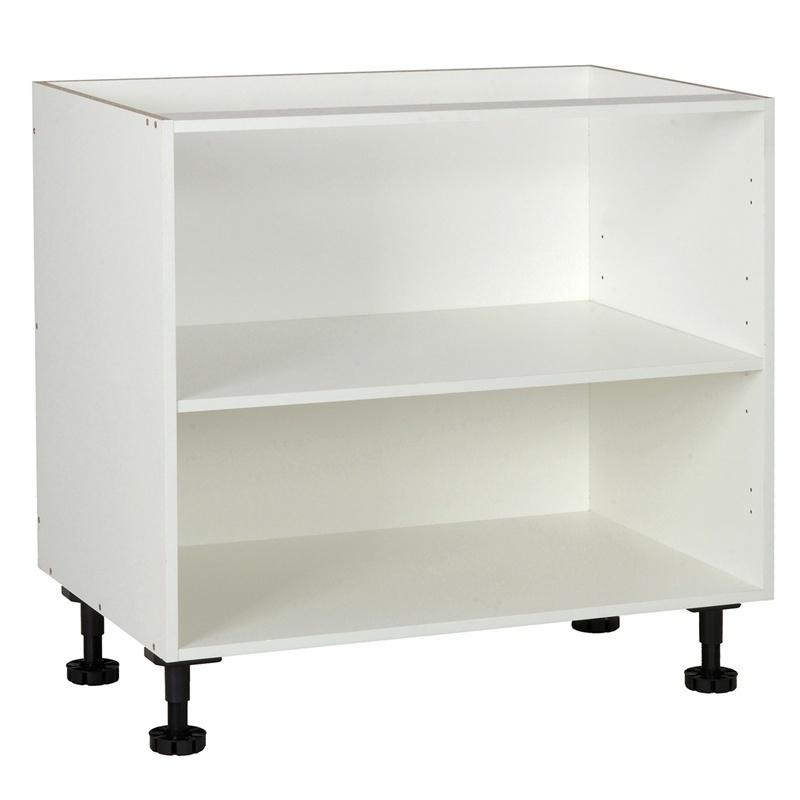cabinet_door: (189, 115, 593, 308), (599, 107, 763, 295), (600, 395, 764, 550)
handle: (567, 611, 624, 644)
